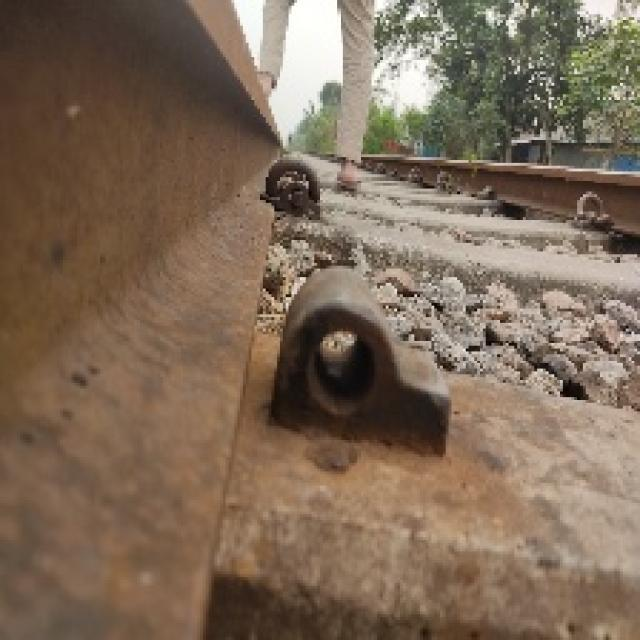Good Fasteners: (263, 157, 317, 211), (577, 194, 609, 226)
Missing Fastener: (240, 271, 486, 475)
